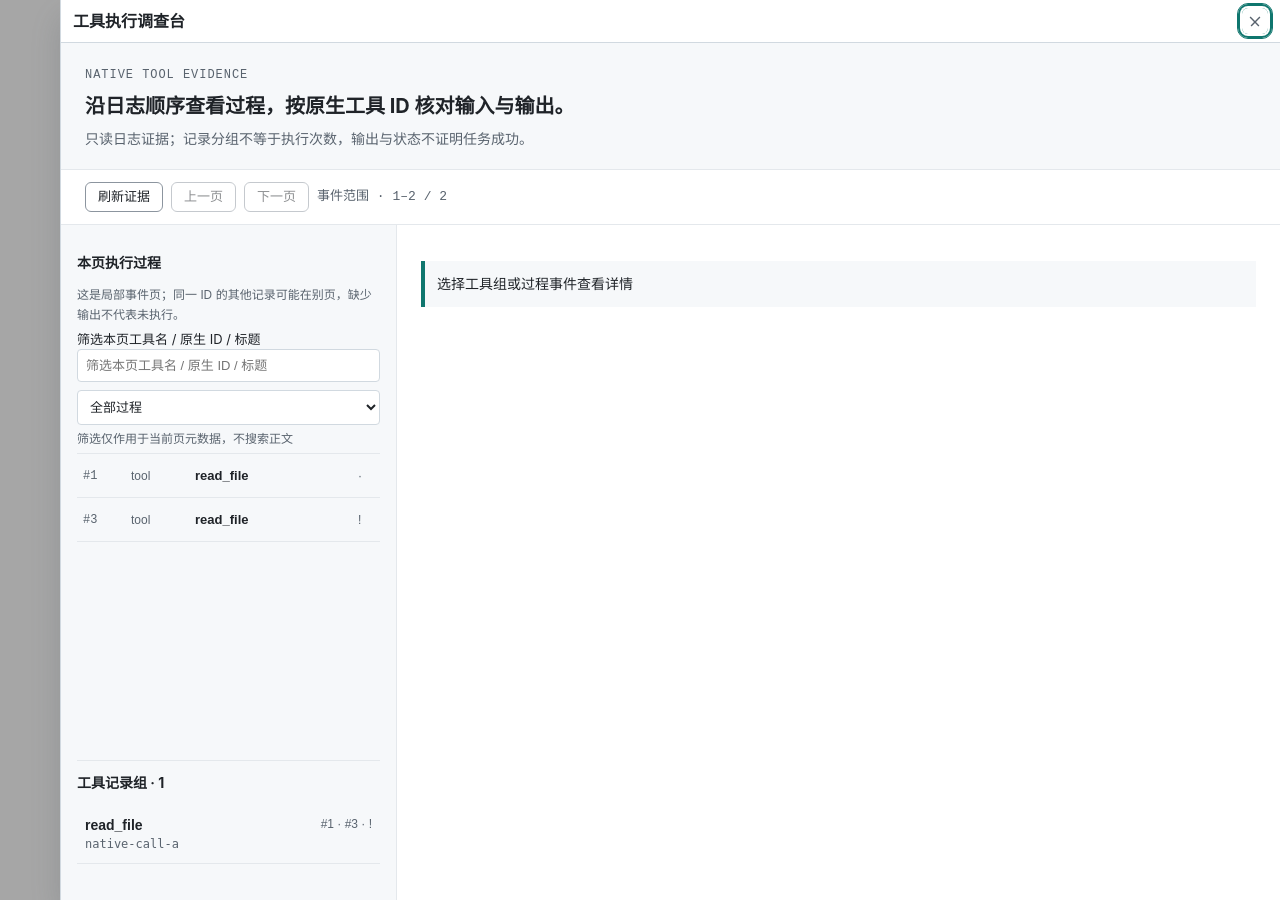
Scenario: tool investigation drawer › hides invalidated evidence, aborts pending body and rejects its late result without refetch
What coordinates should you click on to do the following:
click the button with class "tool-group"
I would click on:
 (114, 825)
Its box is [77,805,380,864].
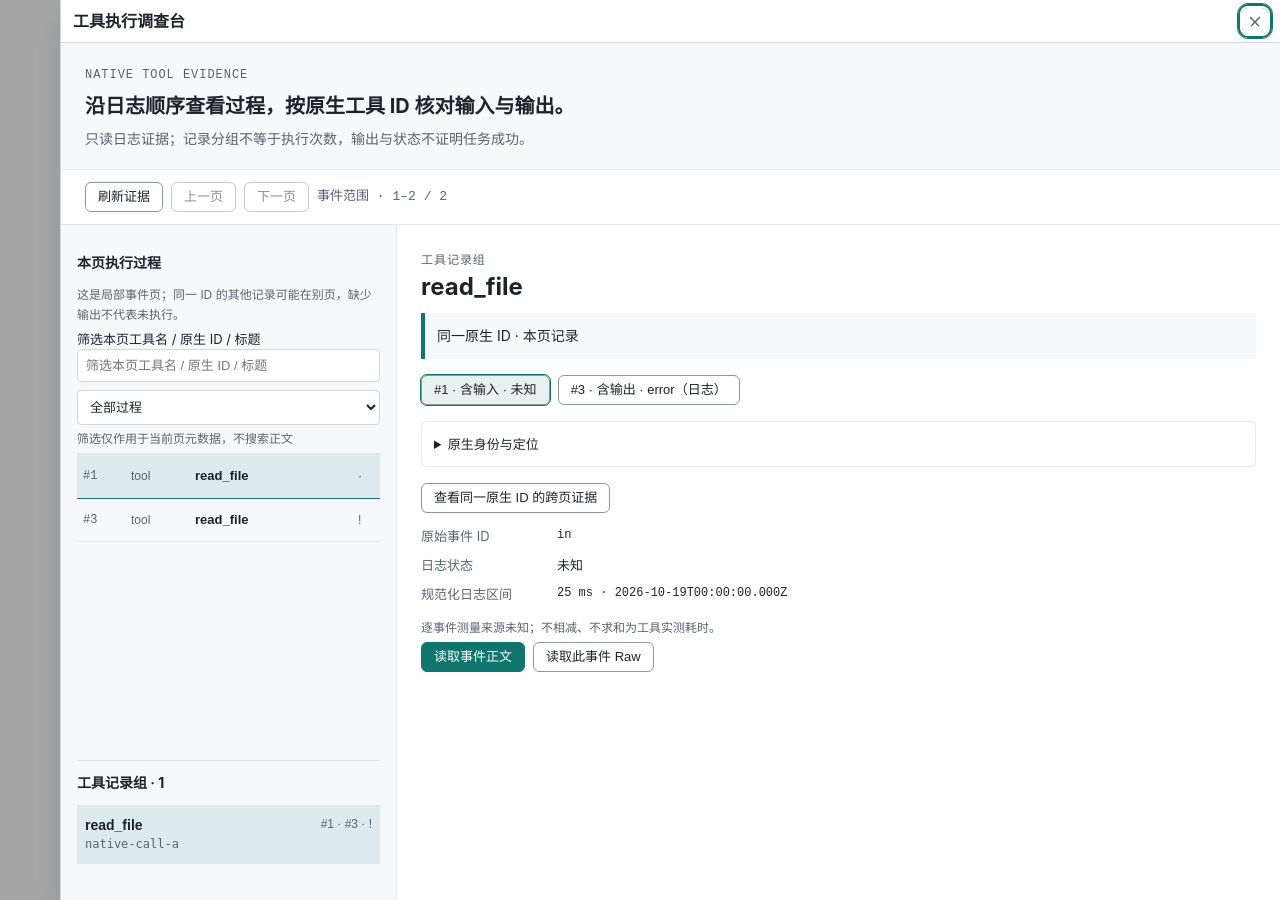
Expected: the button "读取事件正文" is shown
What coordinates should you click on to do the following:
click the button "读取事件正文"
I would click on:
 (473, 657)
Its box is [421,642,525,672].
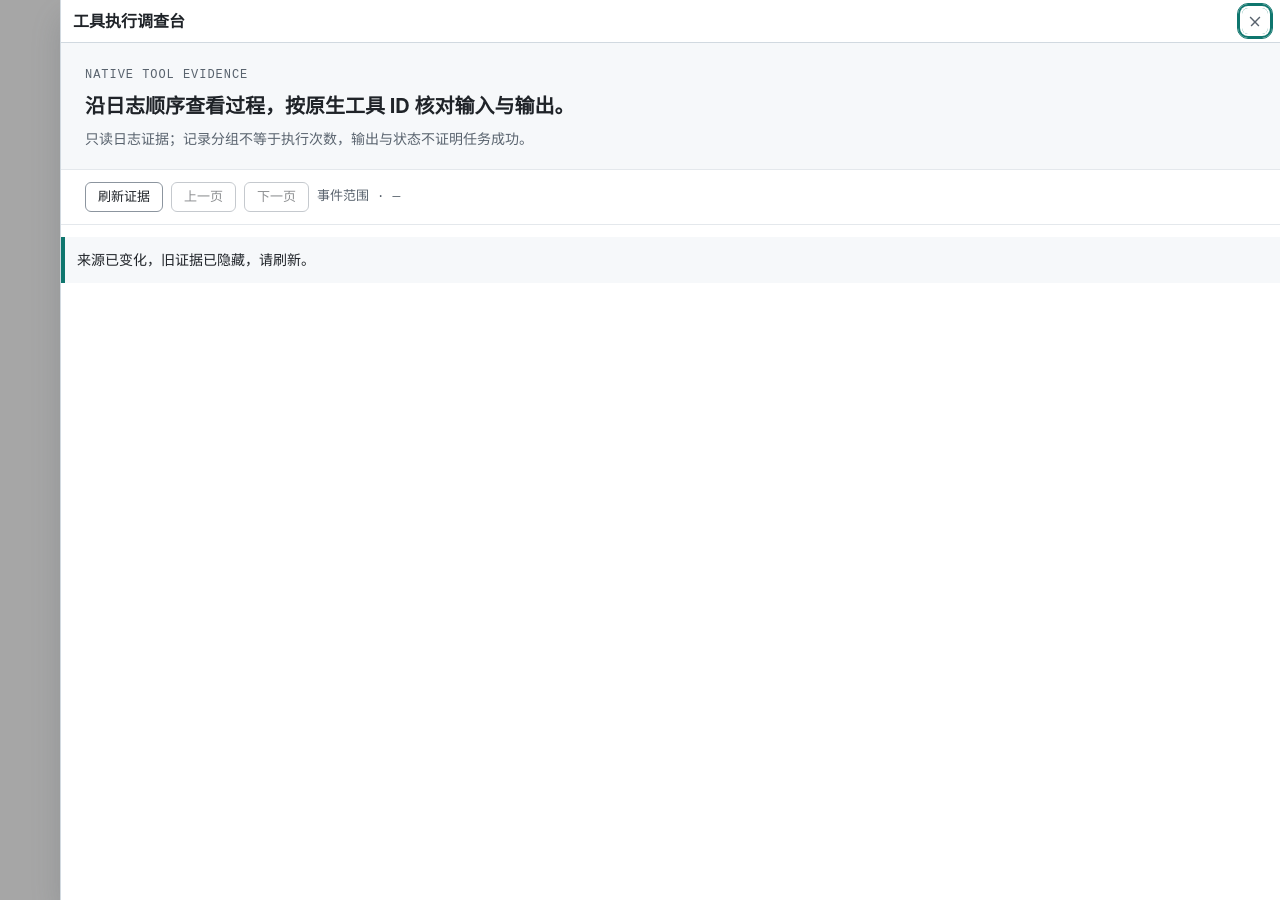
Expected: the text "来源已变化" is shown, [77,251,315,268]
